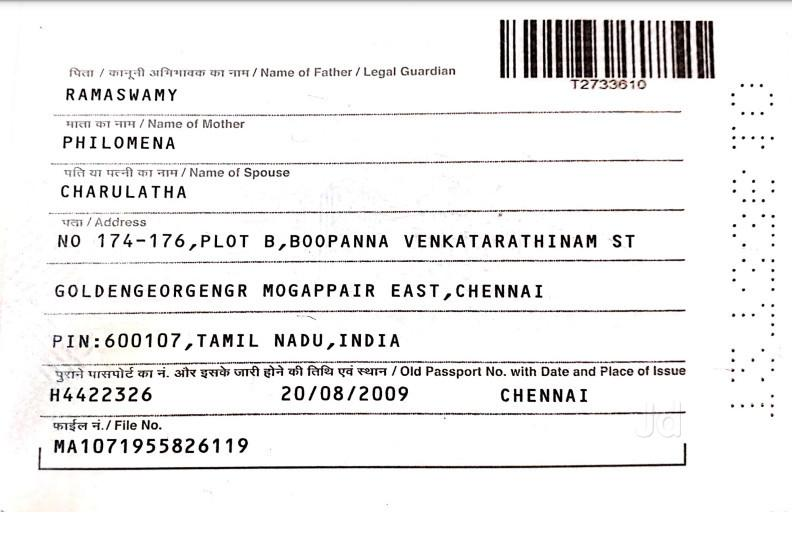File_no: (46, 431, 257, 464)
address: (41, 228, 651, 358)
father_name: (51, 79, 194, 110)
mother_name: (53, 126, 198, 164)
old_passport_details: (34, 377, 592, 414)
passport_no: (561, 70, 654, 101)
spouse_name: (43, 179, 204, 207)
